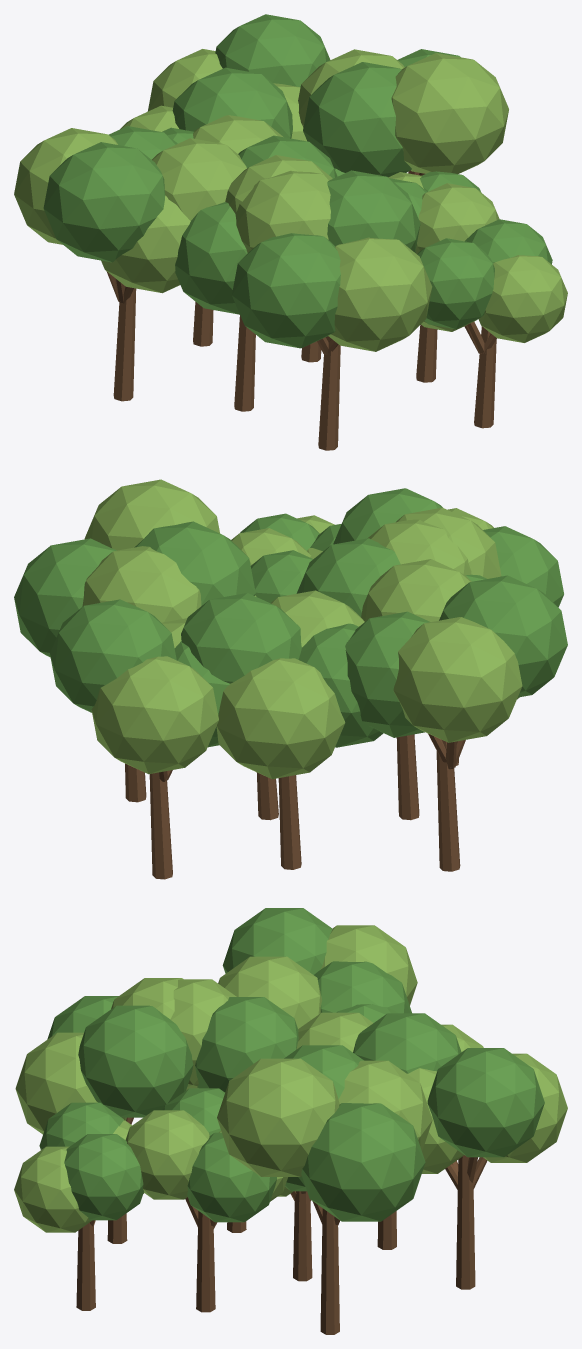
Rendered from FEATURE_FOREST_v01.fbx.
3 views of the same model, one above another, from view 1: azimuth 30°, elevation 25°; view 2: azimuth 150°, elevation 25°; view 3: azimuth 270°, elevation 25° (orthographic). The views are drawn at different scales.
Visible parts, largest first — view 1: Broadleaf_crown.059, Broadleaf_crown.062, Broadleaf_crown.054, Broadleaf_crown.055, Broadleaf_crown.058, Broadleaf_crown.067, Broadleaf_crown.042, Broadleaf_crown.068, Broadleaf_crown.052, Broadleaf_crown.053, Broadleaf_crown.048, Broadleaf_crown.066 (+20 smaller); view 2: Broadleaf_crown.061, Broadleaf_crown.049, Broadleaf_crown.069, Broadleaf_crown.068, Broadleaf_crown.062, Broadleaf_crown.048, Broadleaf_crown.056, Broadleaf_crown.060, Broadleaf_crown.057, Broadleaf_crown.059, Broadleaf_crown.058, Broadleaf_crown.041 (+17 smaller); view 3: Broadleaf_crown.056, Broadleaf_crown.059, Broadleaf_crown.068, Broadleaf_crown.052, Broadleaf_crown.040, Broadleaf_crown.064, Broadleaf_crown.047, Broadleaf_crown.044, Broadleaf_crown.055, Broadleaf_crown.062, Broadleaf_crown.048, Broadleaf_crown.067 (+20 smaller).
Boxes of the visible parts, x1=… form: Broadleaf_crown.059: x1=391, y1=53, x2=508, y2=173; Broadleaf_crown.062: x1=43, y1=142, x2=165, y2=262; Broadleaf_crown.054: x1=232, y1=233, x2=340, y2=348; Broadleaf_crown.055: x1=328, y1=237, x2=432, y2=351; Broadleaf_crown.058: x1=303, y1=62, x2=411, y2=177; Broadleaf_crown.067: x1=478, y1=255, x2=567, y2=342; Broadleaf_crown.042: x1=175, y1=202, x2=247, y2=314; Broadleaf_crown.068: x1=215, y1=14, x2=330, y2=87; Broadleaf_crown.052: x1=327, y1=170, x2=420, y2=252; Broadleaf_crown.053: x1=235, y1=170, x2=330, y2=252; Broadleaf_crown.048: x1=172, y1=67, x2=292, y2=138; Broadleaf_crown.066: x1=417, y1=238, x2=494, y2=329; Broadleaf_crown.061: x1=393, y1=617, x2=522, y2=742; Broadleaf_crown.049: x1=216, y1=658, x2=345, y2=779; Broadleaf_crown.069: x1=91, y1=656, x2=218, y2=774; Broadleaf_crown.068: x1=50, y1=599, x2=176, y2=712; Broadleaf_crown.062: x1=439, y1=575, x2=567, y2=697; Broadleaf_crown.048: x1=181, y1=593, x2=301, y2=683; Broadleaf_crown.056: x1=14, y1=538, x2=116, y2=657; Broadleaf_crown.060: x1=345, y1=611, x2=430, y2=737; Broadleaf_crown.057: x1=82, y1=546, x2=201, y2=622; Broadleaf_crown.059: x1=84, y1=479, x2=219, y2=550; Broadleaf_crown.058: x1=134, y1=521, x2=255, y2=605; Broadleaf_crown.041: x1=361, y1=559, x2=471, y2=621; Broadleaf_crown.056: x1=301, y1=1103, x2=425, y2=1221; Broadleaf_crown.059: x1=217, y1=1058, x2=339, y2=1176; Broadleaf_crown.068: x1=427, y1=1048, x2=544, y2=1157; Broadleaf_crown.052: x1=78, y1=1005, x2=193, y2=1117; Broadleaf_crown.040: x1=195, y1=997, x2=298, y2=1092; Broadleaf_crown.064: x1=64, y1=1134, x2=143, y2=1220; Broadleaf_crown.047: x1=125, y1=1110, x2=209, y2=1199; Broadleaf_crown.044: x1=187, y1=1132, x2=276, y2=1222; Broadleaf_crown.055: x1=15, y1=1032, x2=126, y2=1134; Broadleaf_crown.062: x1=222, y1=908, x2=332, y2=974; Broadleaf_crown.048: x1=353, y1=1013, x2=461, y2=1073; Broadleaf_crown.067: x1=14, y1=1146, x2=92, y2=1232.
Size of the model in its own units: 133 by 75.38 by 139.
